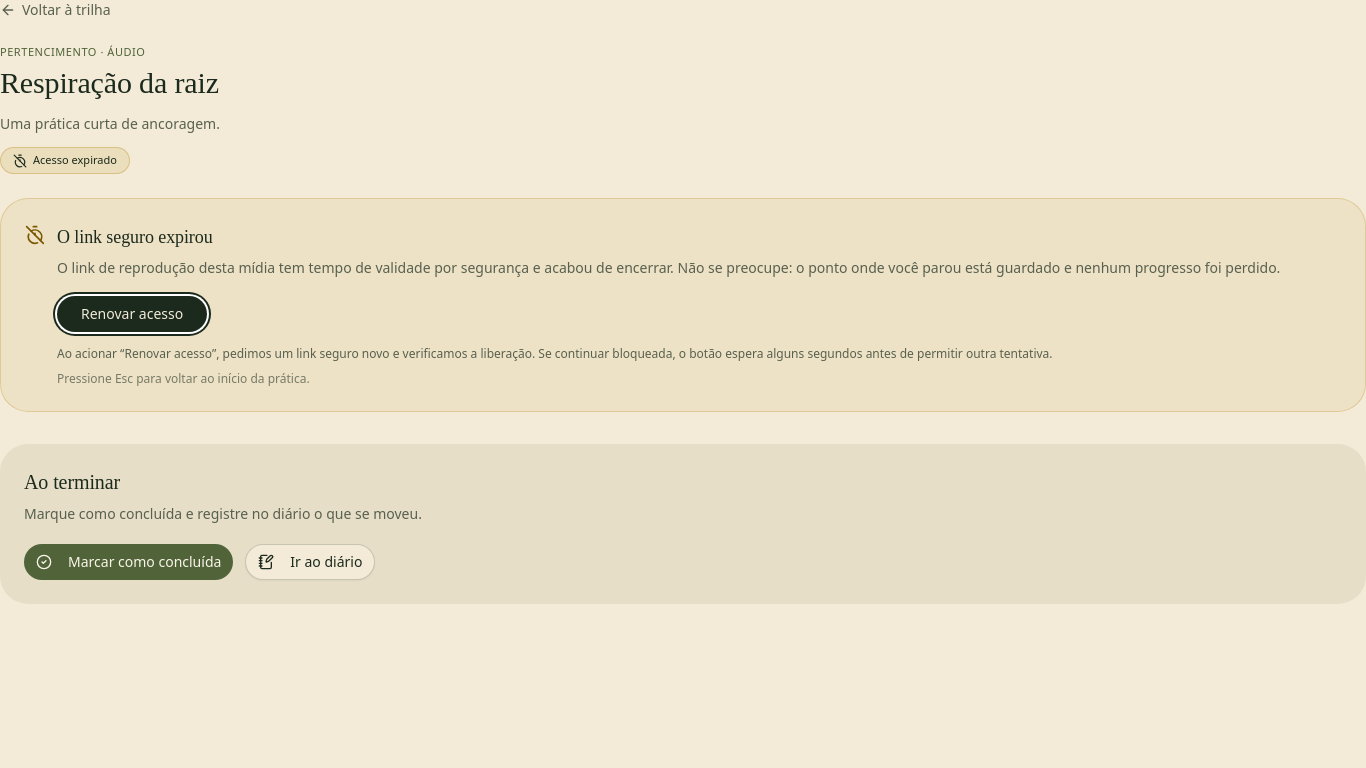
Scenario: player — expiração da URL assinada › mídia revogada: exibe mensagem específica, link de volta e não grava progresso
Later steps or results of the test are not shown.
Expected: the heading "O link seguro expirou" is shown, [57,227,213,247]
Click the button "Renovar acesso".
click(132, 314)  # box [57,296,207,332]
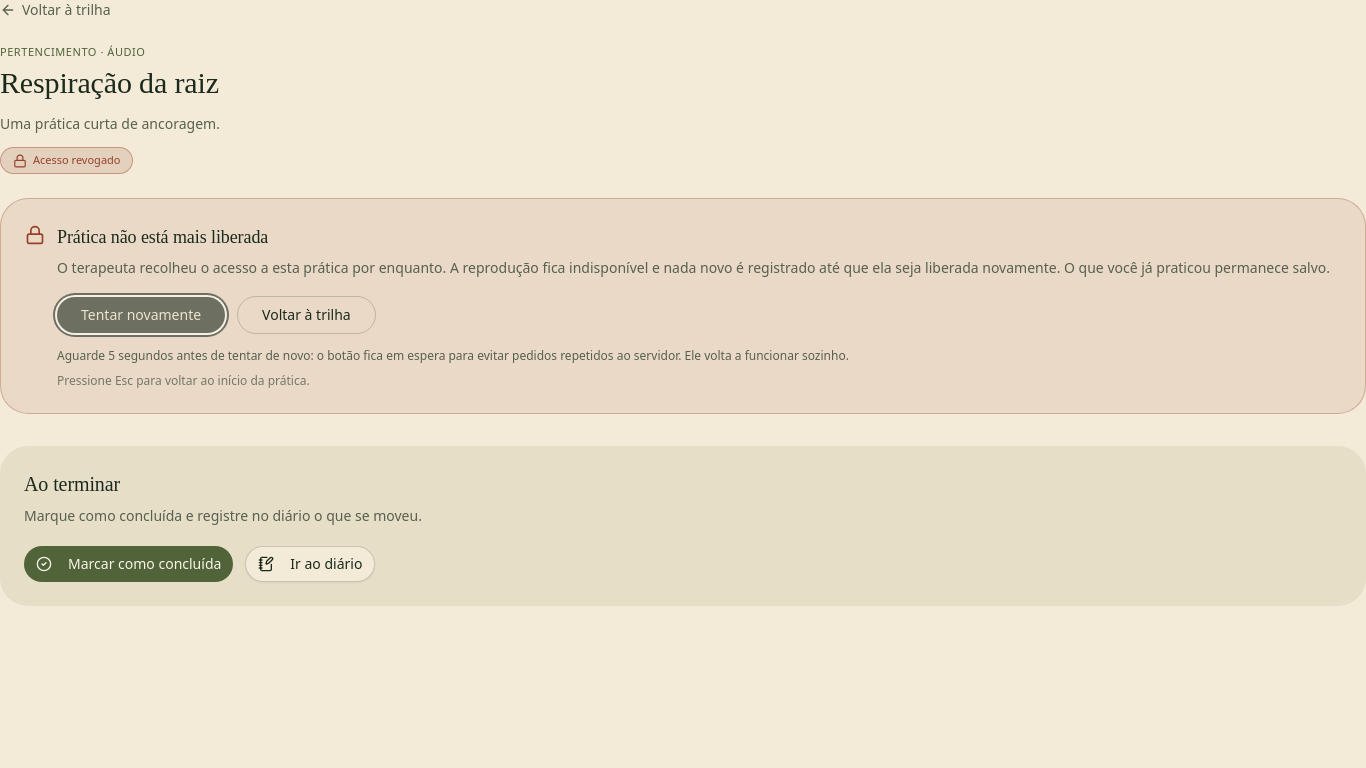
Expected: the heading "Prática não está mais liberada" is shown, [57,227,268,247]
Expected: the text "O terapeuta recolheu o acesso a esta prática" is shown, [57,258,1330,277]
Expected: the button "Tentar novamente" is shown, [57,296,225,332]
